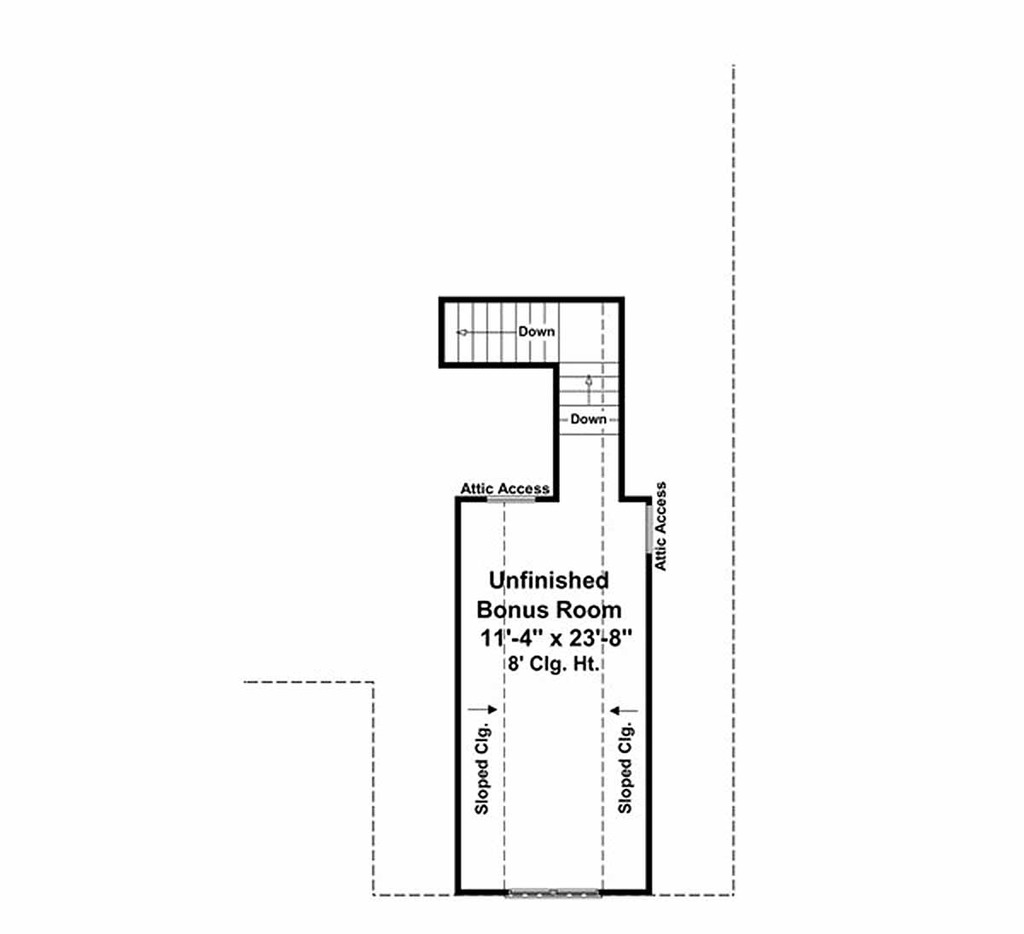stairs: (437, 298, 637, 436)
window: (644, 502, 662, 557), (489, 483, 537, 502)
